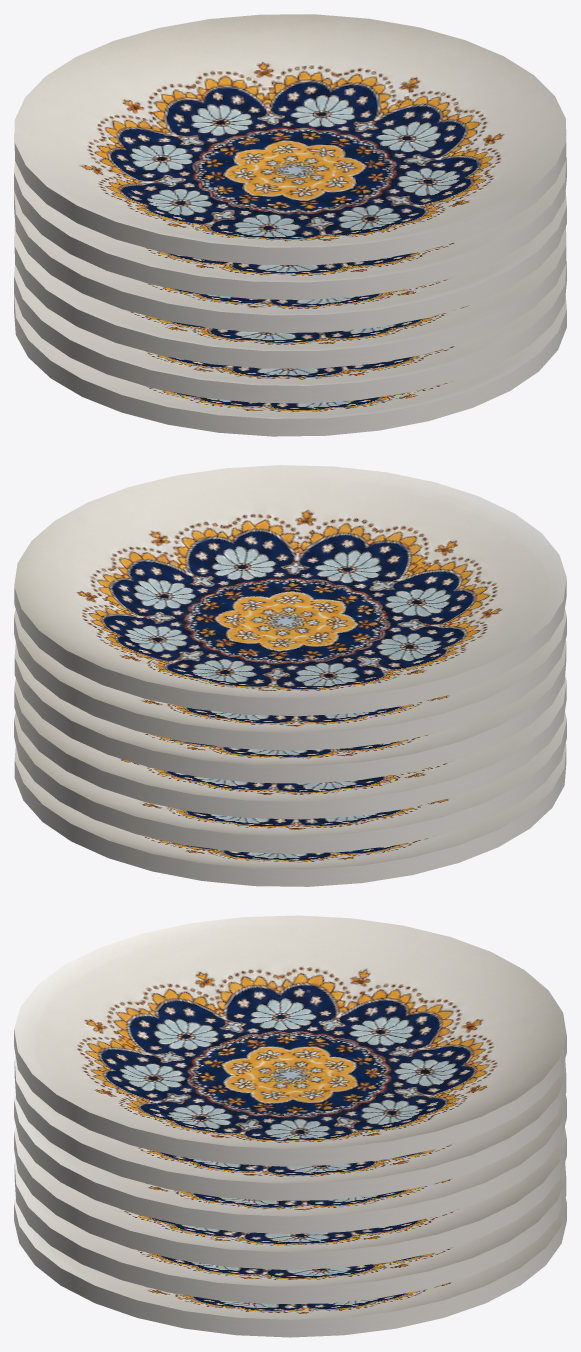
Rendered from Piring5.fbx.
The picture shows the model from 3 angles, top to bottom: view 1: azimuth 30°, elevation 25°; view 2: azimuth 150°, elevation 25°; view 3: azimuth 270°, elevation 25°; orthographic projection.
Parts seen in each view (by area): view 1: Perpiringan; view 2: Perpiringan; view 3: Perpiringan.
Part boxes in pixels (x1,y1,x2,y2): Perpiringan: (14, 14, 566, 436); Perpiringan: (14, 465, 566, 886); Perpiringan: (14, 915, 566, 1337).
Bounding box in the file's own units: 60.57 × 26.87 × 60.57.
